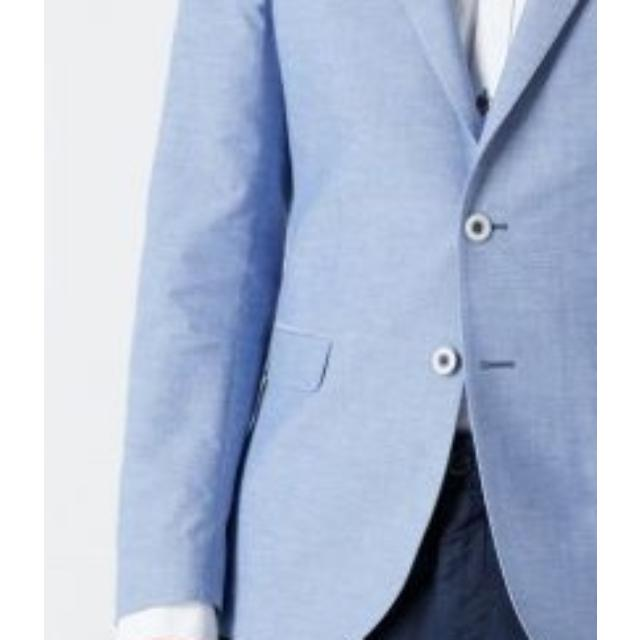cotton: (107, 0, 596, 640)
